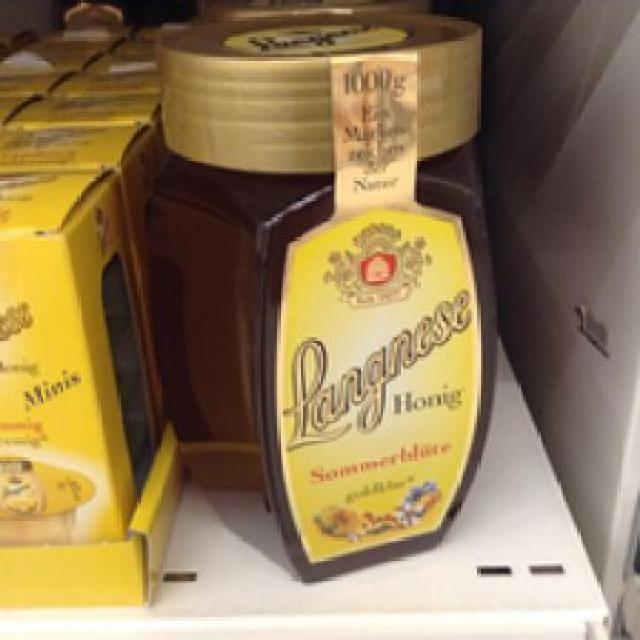Honey: (132, 2, 512, 575)
